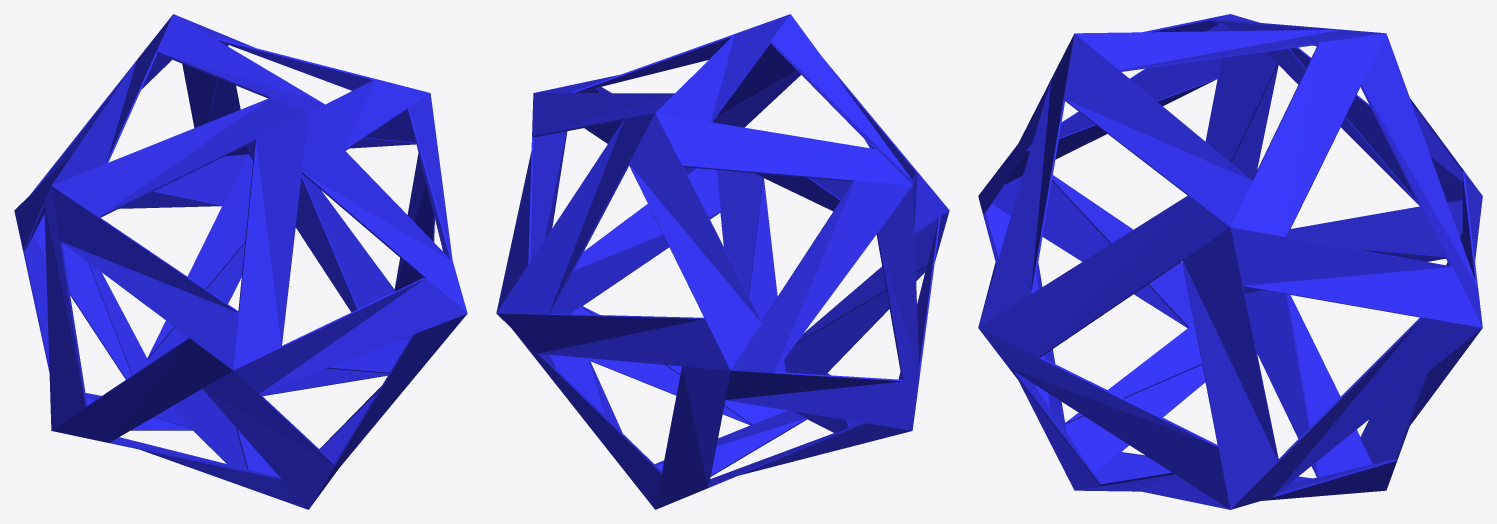
Rendered from Icosahedron1.glb.
The picture shows the model from 3 angles, left to right: view 1: azimuth 30°, elevation 25°; view 2: azimuth 150°, elevation 25°; view 3: azimuth 270°, elevation 25°; orthographic projection. The views are drawn at different scales.
Parts seen in each view (by area): view 1: root; view 2: root; view 3: root.
Part boxes in pixels (bbox=[...]): root: bbox=[14, 14, 467, 509]; root: bbox=[496, 14, 949, 509]; root: bbox=[978, 14, 1482, 509].
Bounding box in the file's own units: 4.85 × 4.85 × 4.85.
